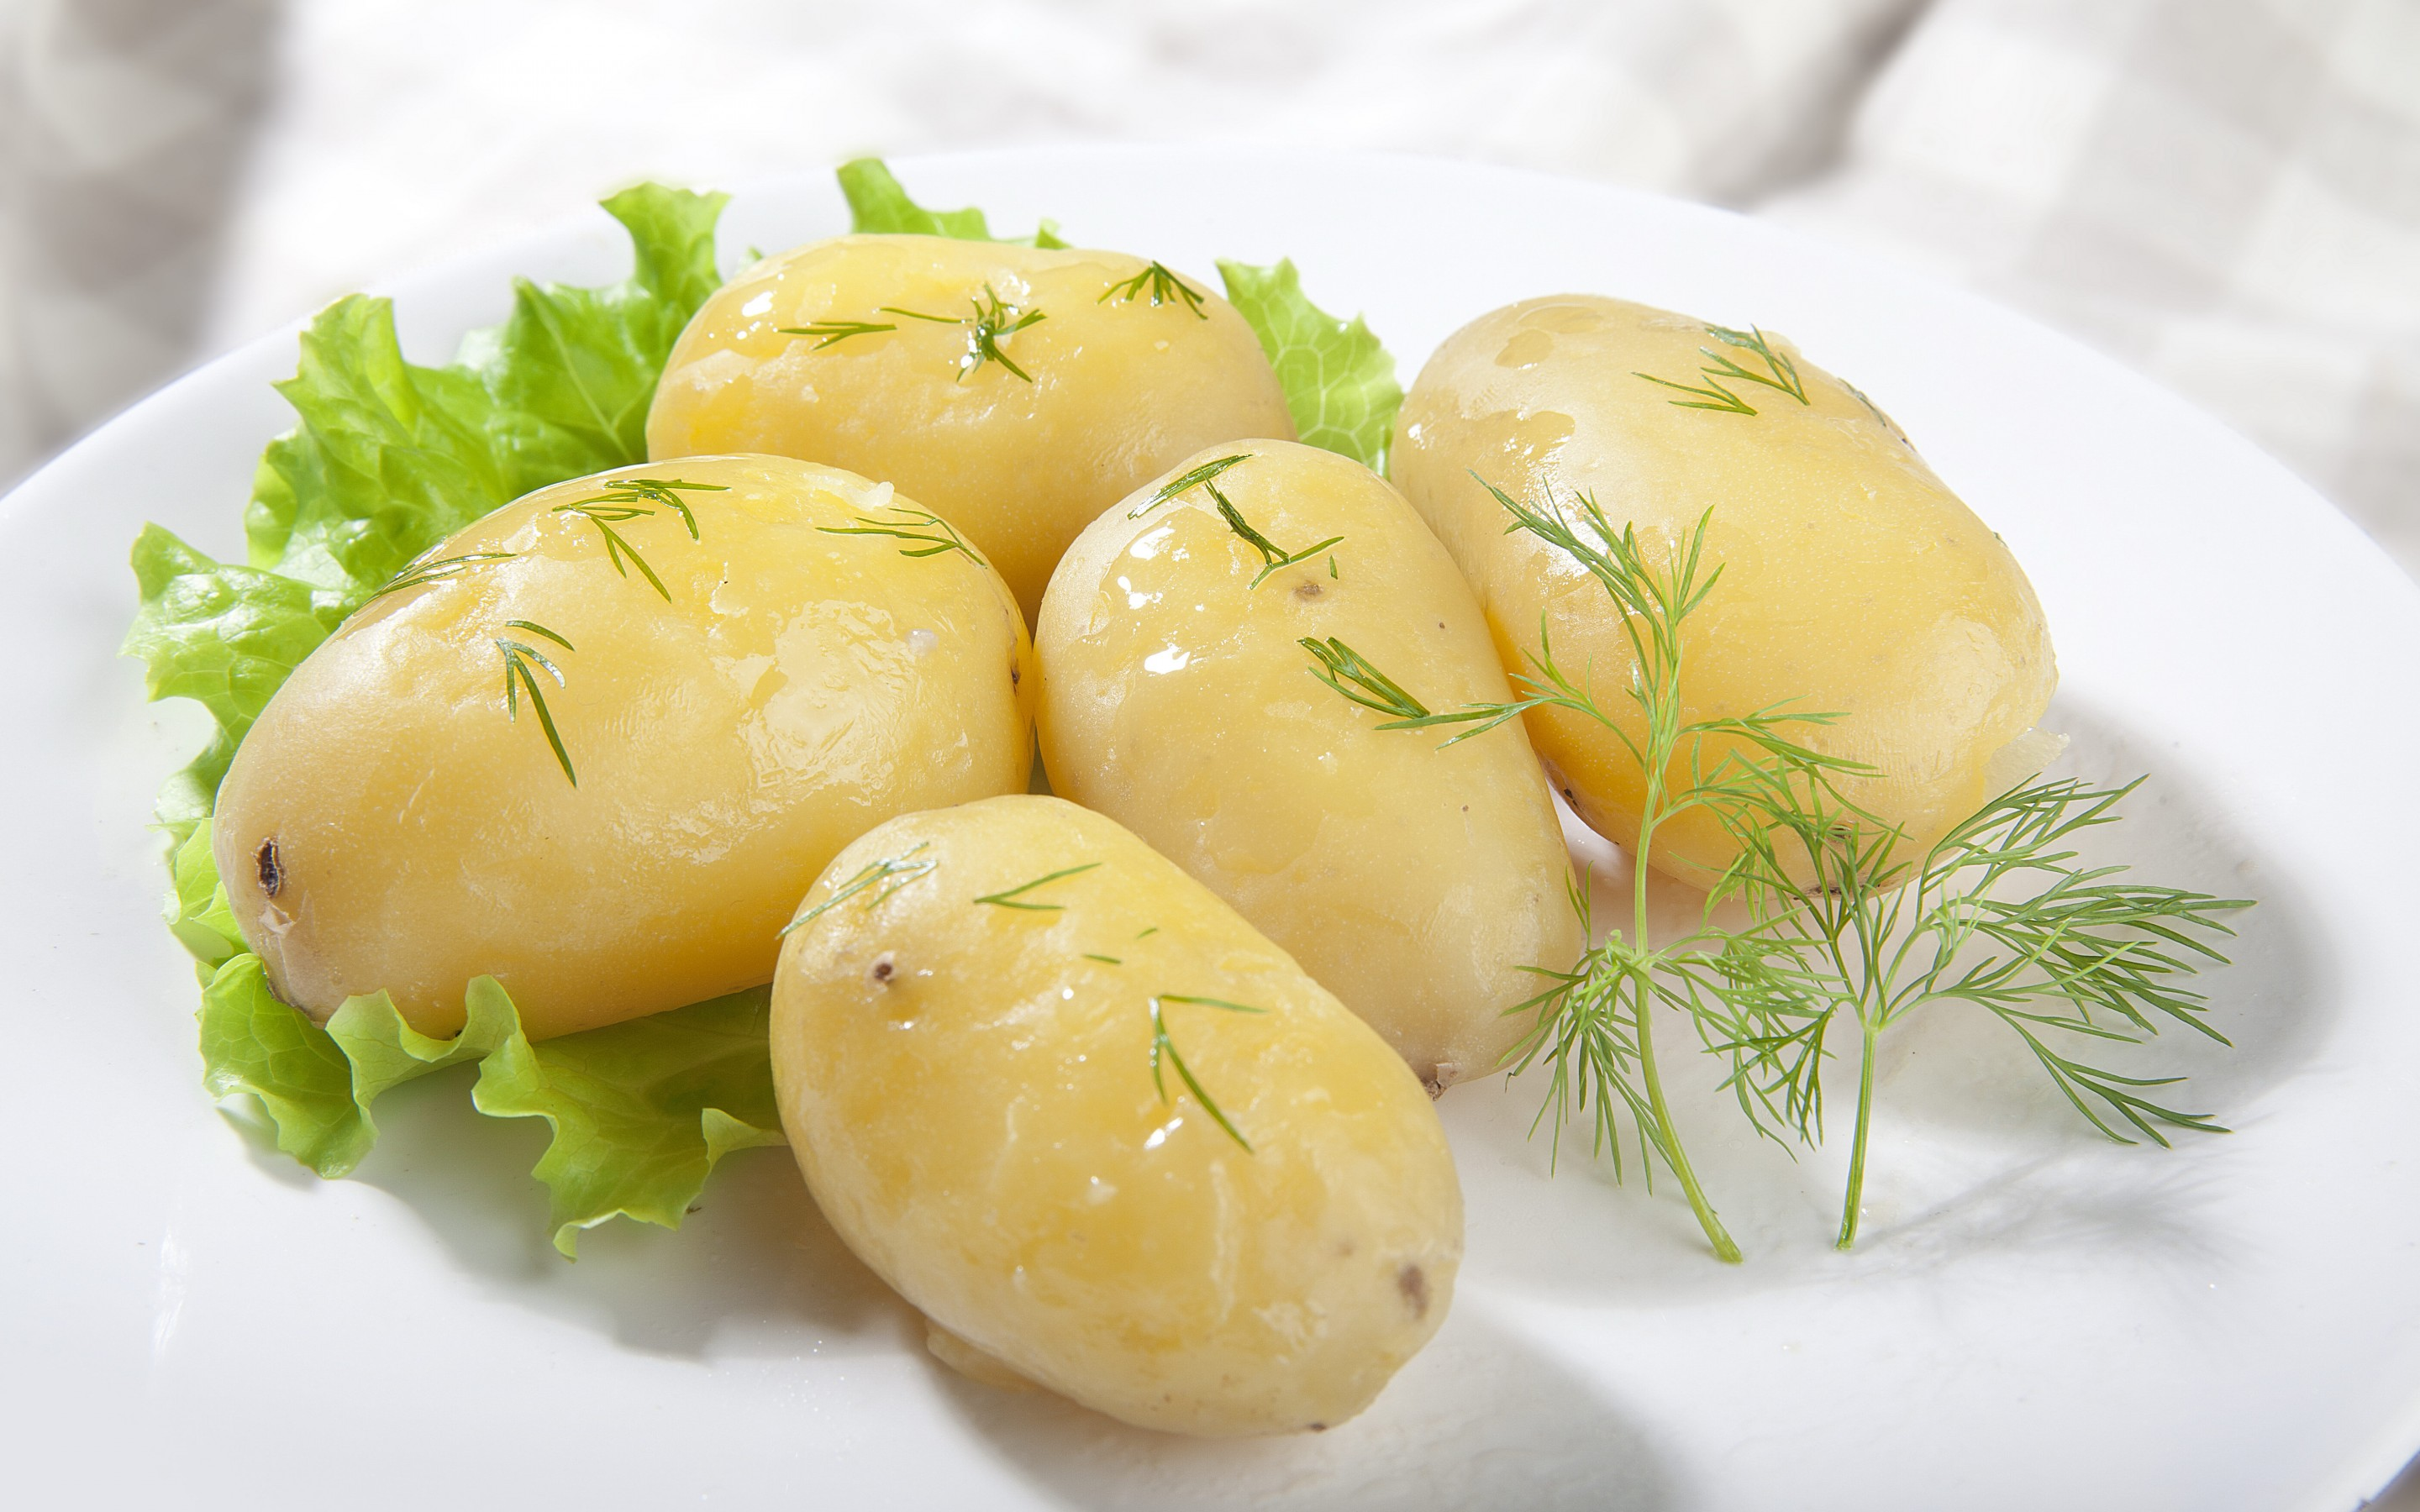boiled potatoes: (260, 460, 1028, 1029), (782, 812, 1462, 1449), (1389, 284, 2077, 894), (1045, 453, 1584, 1054), (693, 244, 1284, 540), (237, 1023, 730, 1254)
chopped lettuce: (166, 195, 686, 519)
